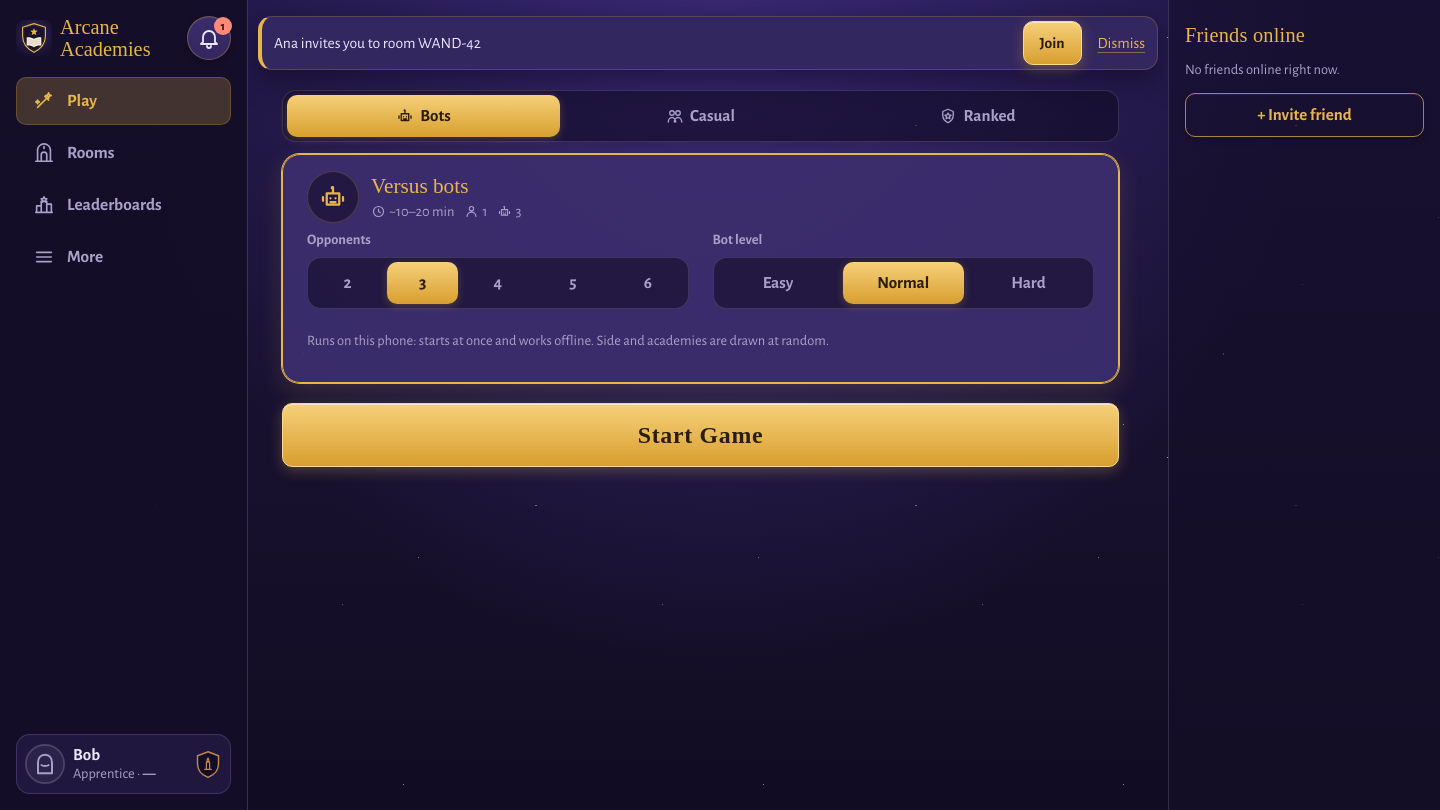
Test: account screens › an incoming invite shows a banner whose Join enters the room
Expected: the text "Ana invites you to room WAND-42" is shown, [274,34,481,52]
What coordinates should you click on to do the following:
click the button "Join"
I would click on:
 (1052, 43)
Its box is [1022,21,1082,65].
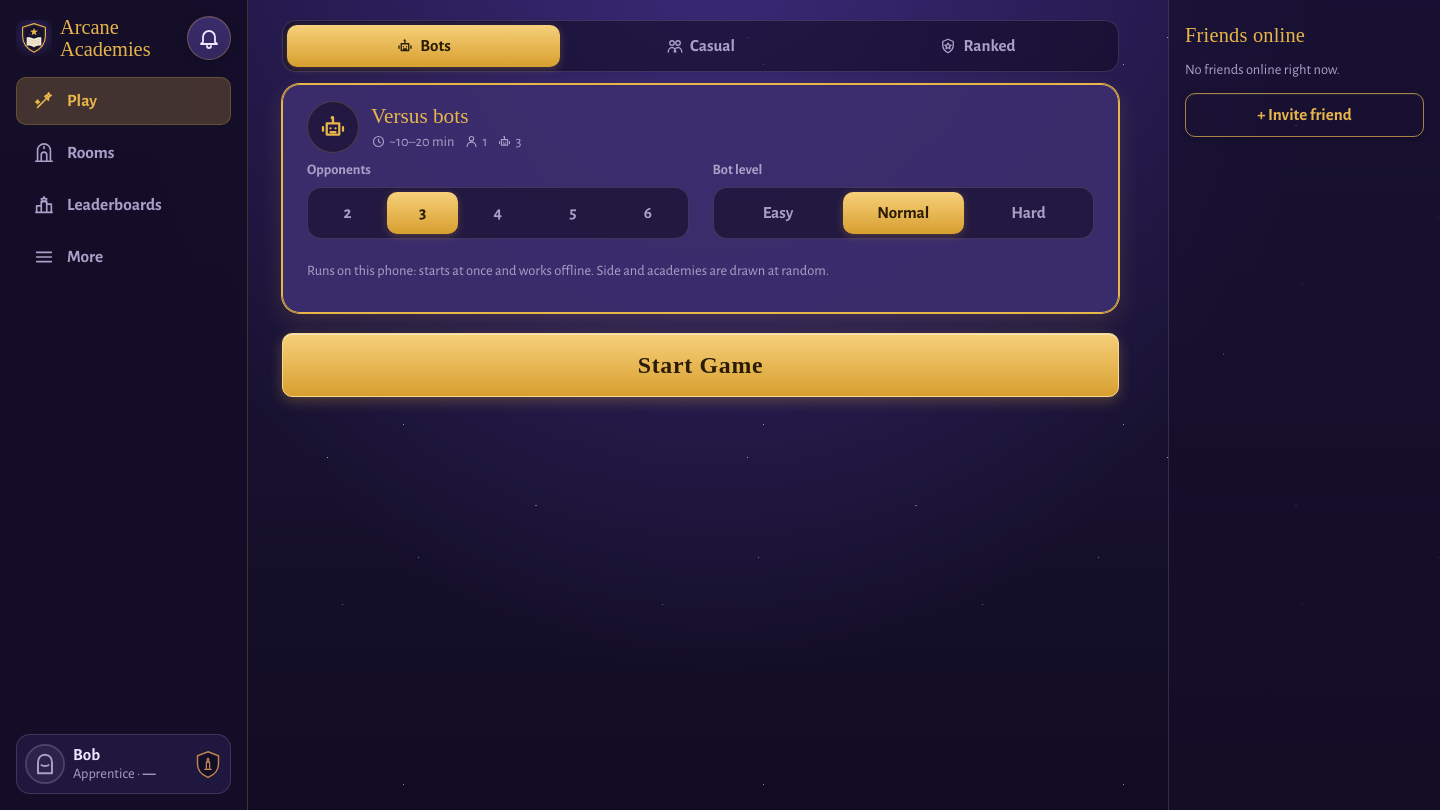
Now the text "Ana invites you to room WAND-42" is gone
